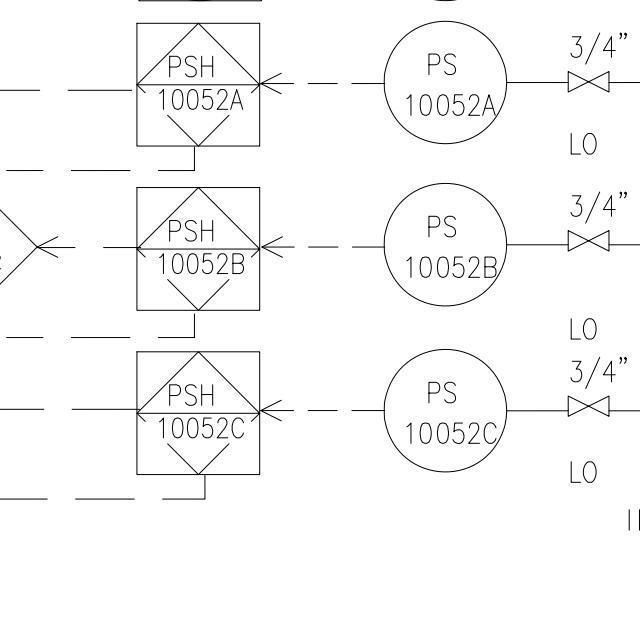GV: (562, 391, 614, 421), (563, 69, 617, 97), (562, 227, 615, 255)
